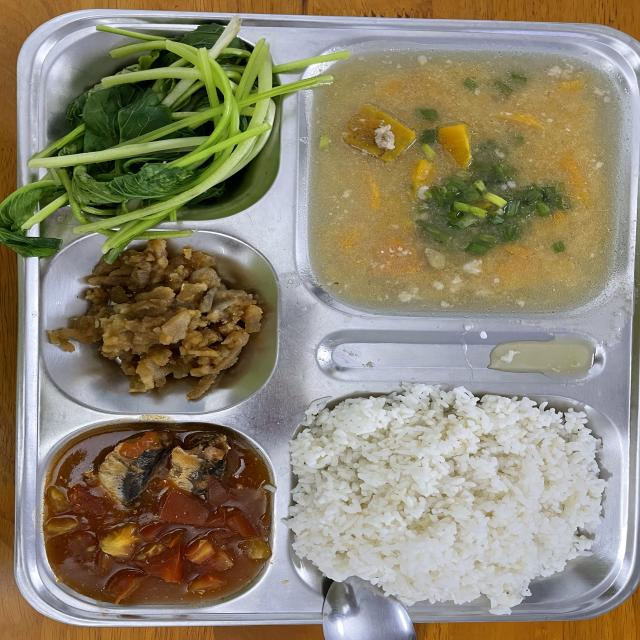ca_kho: (72, 442, 252, 589)
canh_cai: (65, 47, 252, 198)
com_trang: (318, 409, 582, 576)
